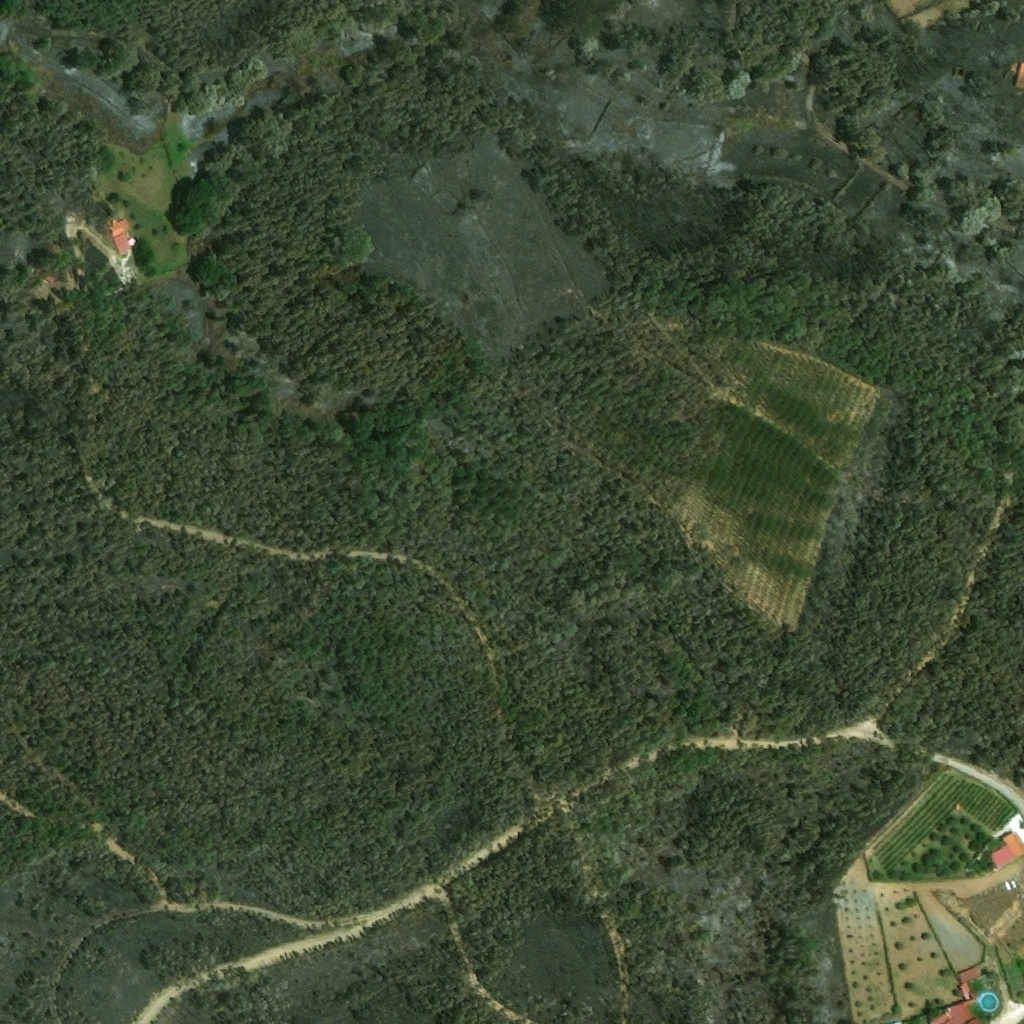0 no-damage: (938, 964, 982, 1023), (988, 829, 1023, 869), (106, 218, 129, 238), (111, 235, 130, 258), (185, 239, 203, 257), (1015, 61, 1023, 88)
